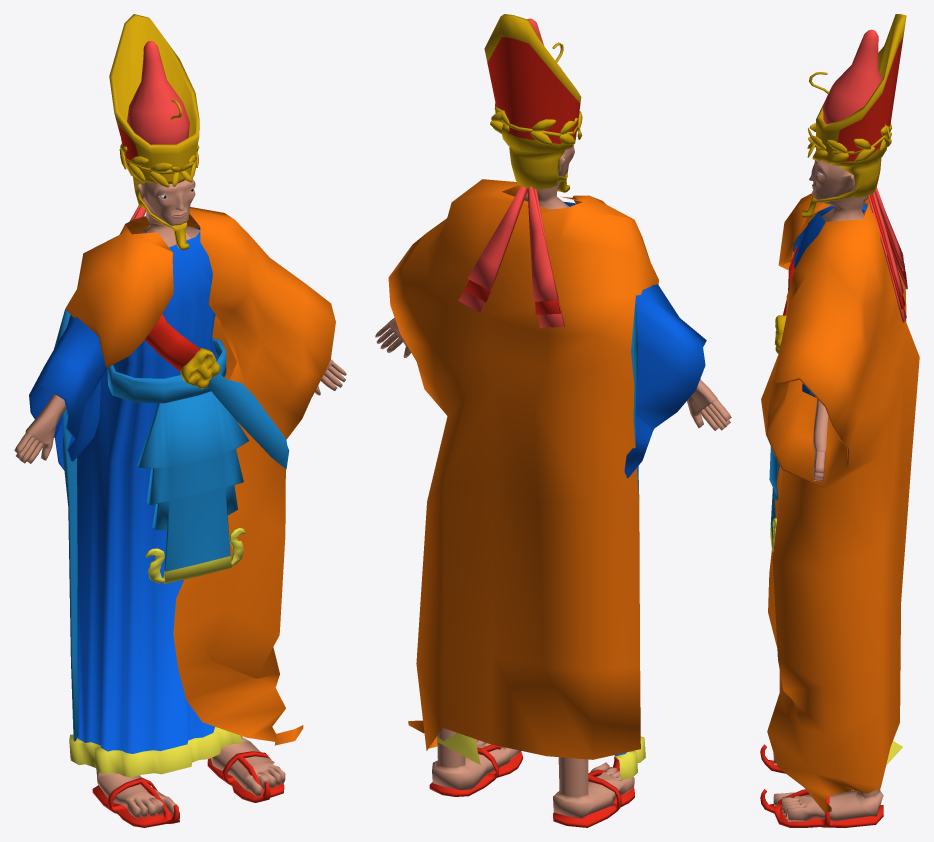
Rendered from Pharaoh_By_Sielxm3d.fbx.
The picture shows the model from 3 angles, left to right: view 1: azimuth 30°, elevation 25°; view 2: azimuth 150°, elevation 25°; view 3: azimuth 270°, elevation 25°; orthographic projection. The views are drawn at different scales.
Parts seen in each view (by area): view 1: Cube.000; view 2: Cube.000; view 3: Cube.000.
Part boxes in pixels (x1,y1,x2,y2): Cube.000: (14,14,346,827); Cube.000: (375,14,731,827); Cube.000: (760,14,919,827).
Size of the model in its own units: 1628 by 3568 by 672.
